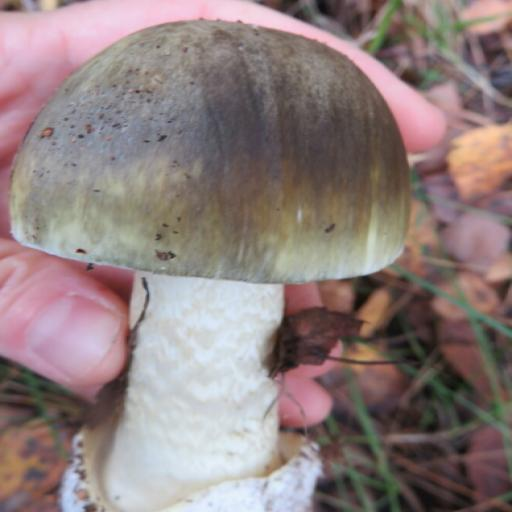mushroom: (10, 21, 410, 511)
